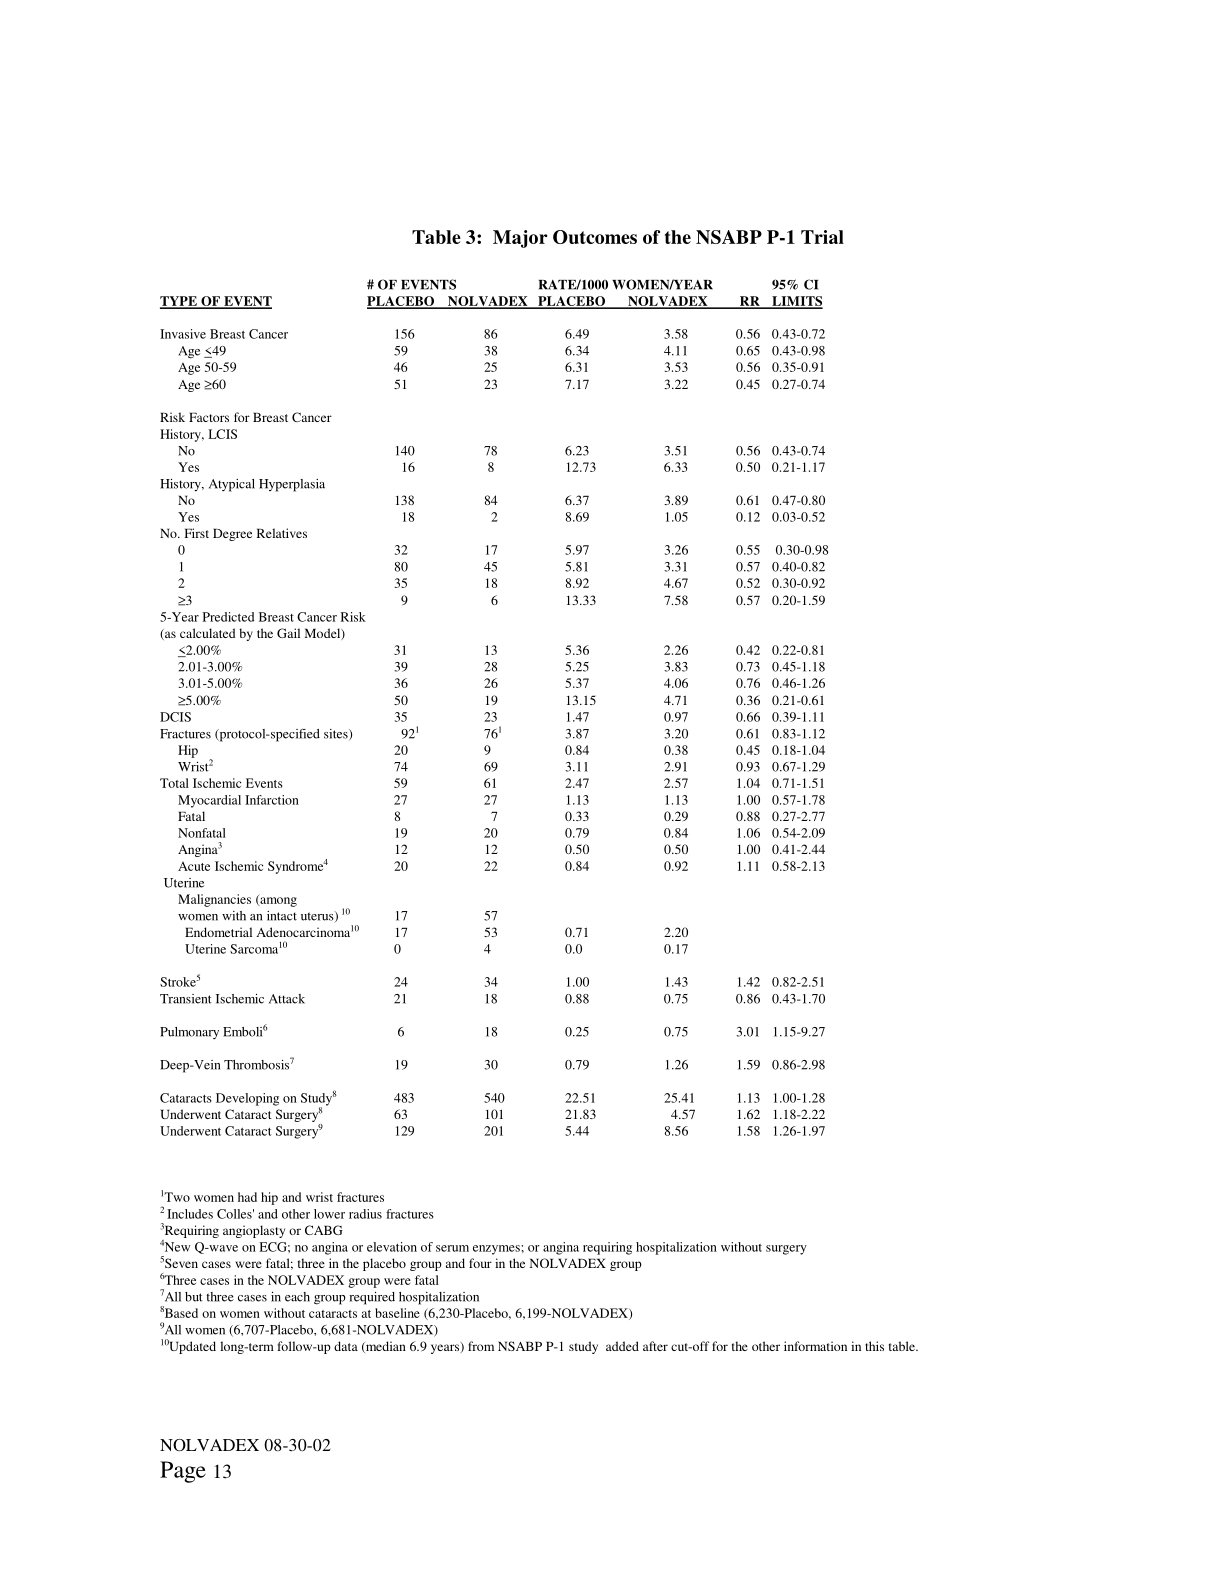nolines: (156, 273, 831, 1142)
